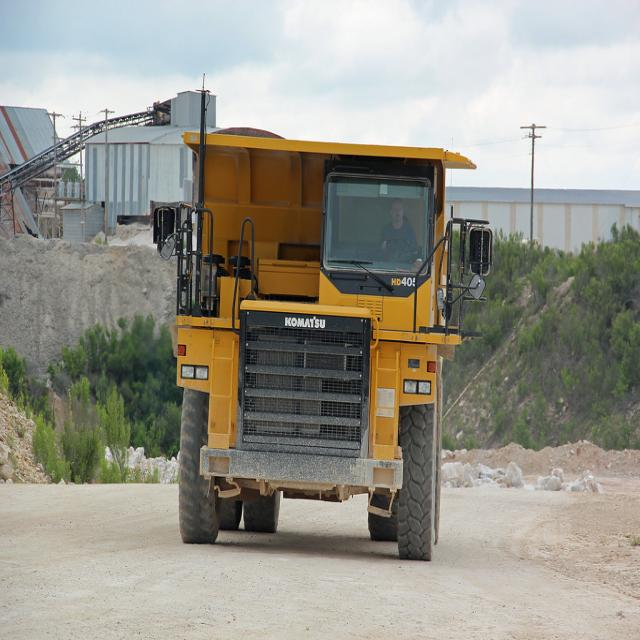dump_truck: (152, 118, 478, 567)
